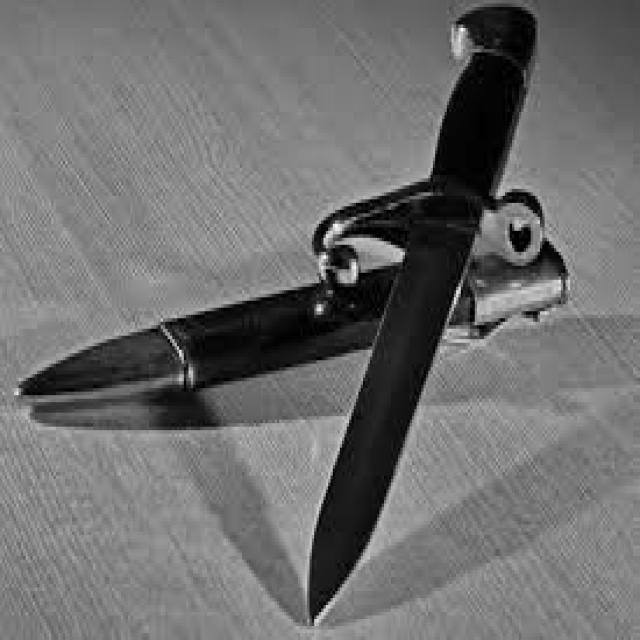Gun: (296, 2, 593, 637), (8, 200, 596, 428)
